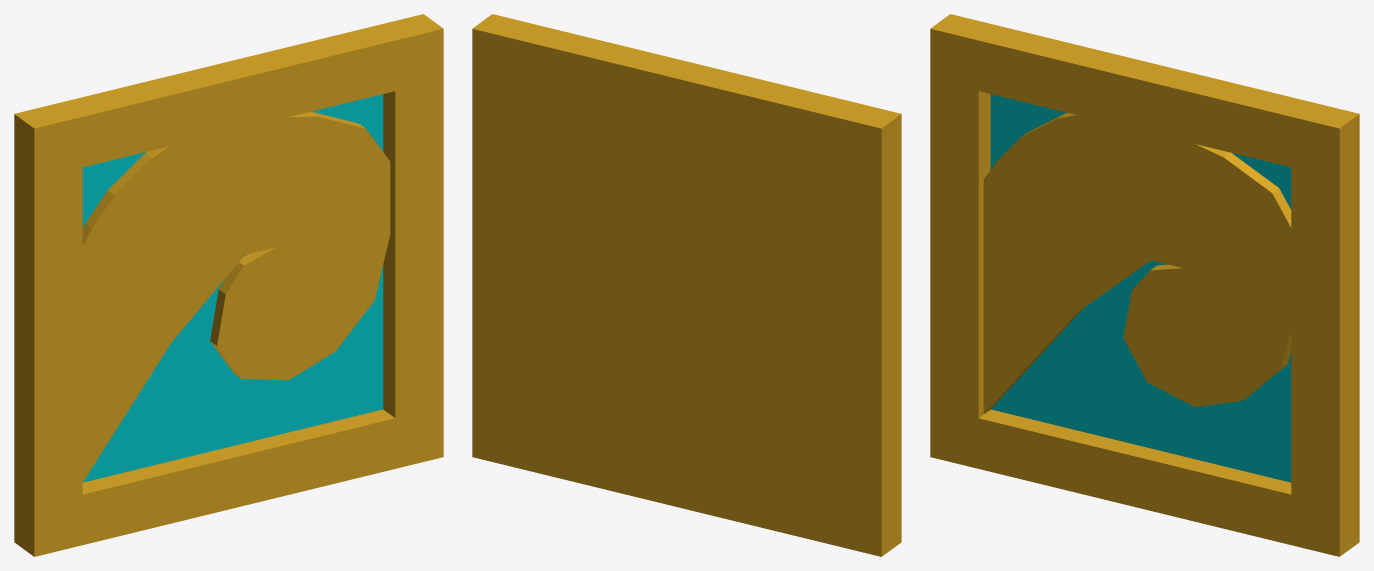
The model's file is Prop_Jungle_Temple_Ornament_Icon_Plaque_Small_Gold_Gem_06.FBX.
3 renders of one model, left to right at view 1: azimuth 30°, elevation 25°; view 2: azimuth 150°, elevation 25°; view 3: azimuth 330°, elevation 25°, orthographic.
Visible parts, largest first — view 1: Prop_Jungle_Temple_Ornament_Icon_Plaque_Small_Gold_Gem_06; view 2: Prop_Jungle_Temple_Ornament_Icon_Plaque_Small_Gold_Gem_06; view 3: Prop_Jungle_Temple_Ornament_Icon_Plaque_Small_Gold_Gem_06.
Part boxes in pixels (bbox=[...]): Prop_Jungle_Temple_Ornament_Icon_Plaque_Small_Gold_Gem_06: bbox=[14, 14, 443, 556]; Prop_Jungle_Temple_Ornament_Icon_Plaque_Small_Gold_Gem_06: bbox=[472, 14, 901, 556]; Prop_Jungle_Temple_Ornament_Icon_Plaque_Small_Gold_Gem_06: bbox=[930, 14, 1359, 556].
Bounding box in the file's own units: 521 × 521 × 44.43.
